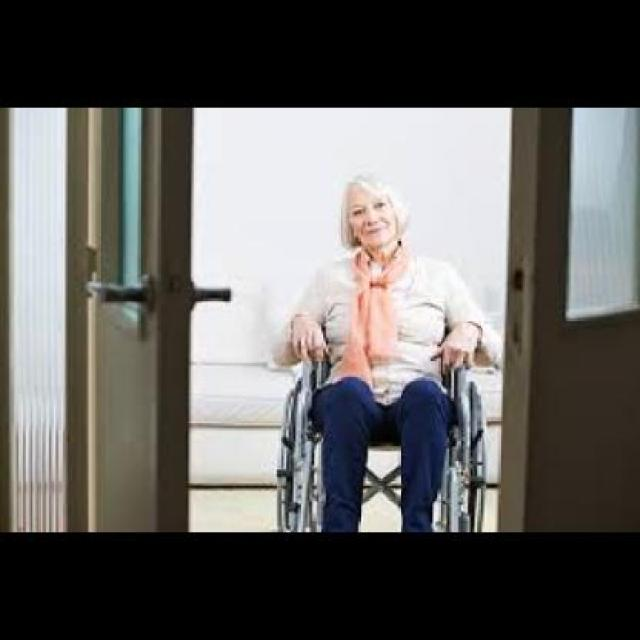wheelchairs: (274, 346, 488, 532)
